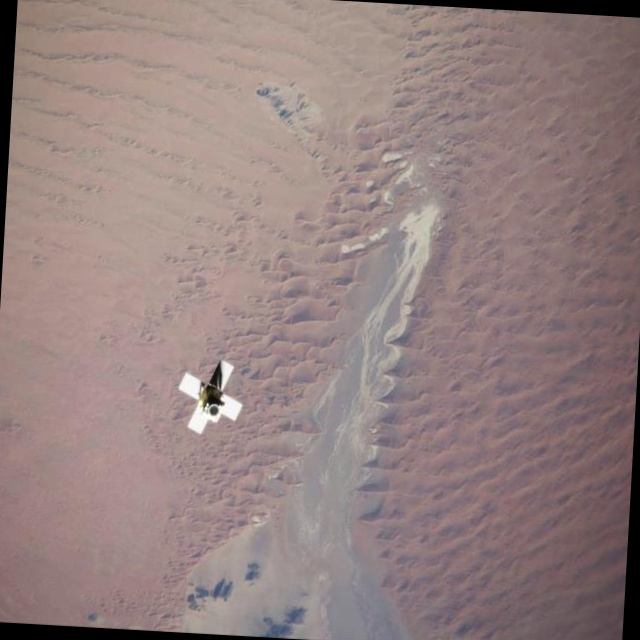medium_debris: (170, 351, 255, 440)
